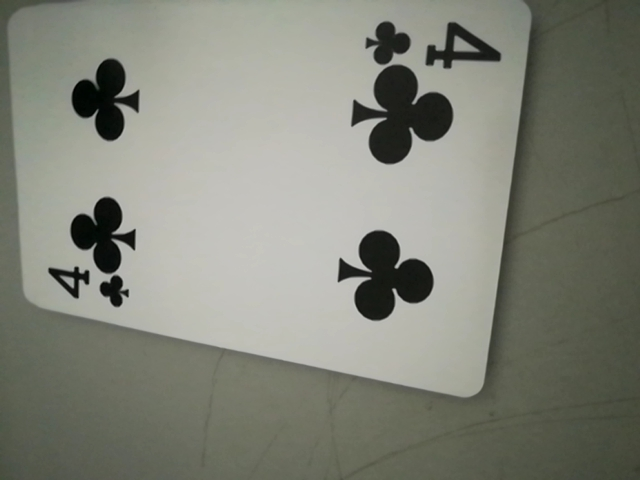mh 4: (360, 10, 501, 70), (34, 262, 138, 315)
